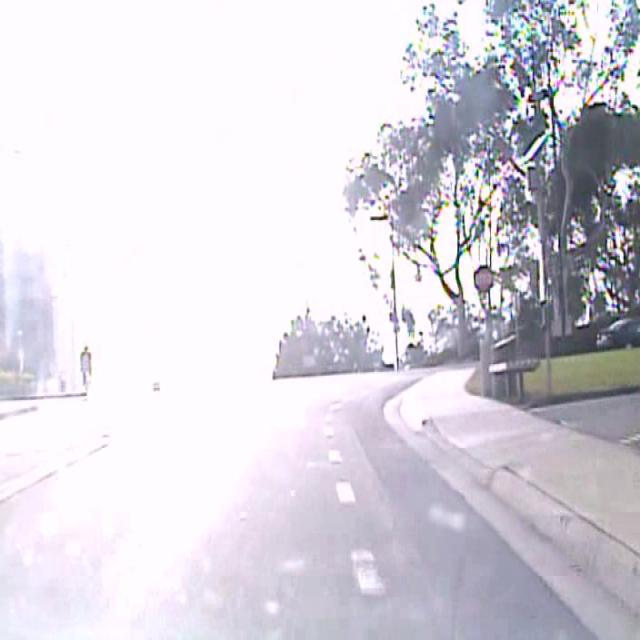stop: (472, 264, 493, 295)
